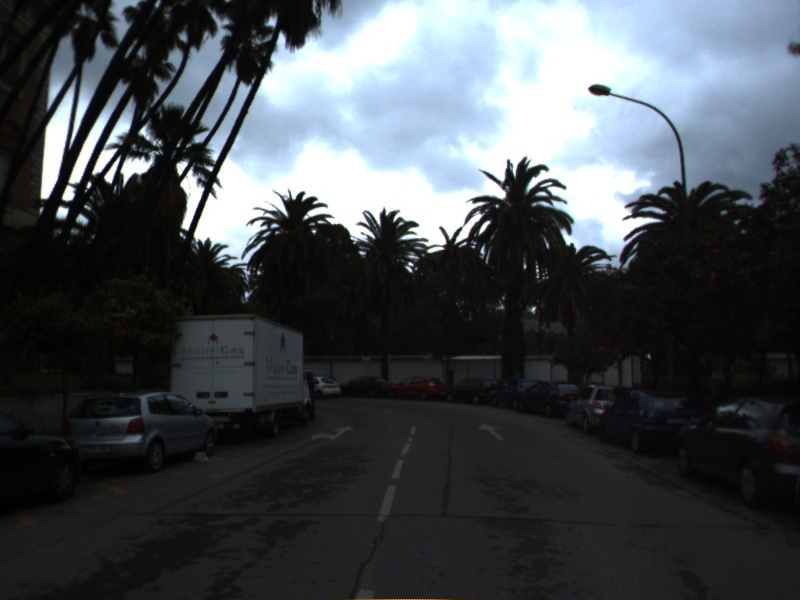STRAIGHT: (476, 421, 507, 442)
STRAIGHT_LEFT: (308, 423, 357, 444)
